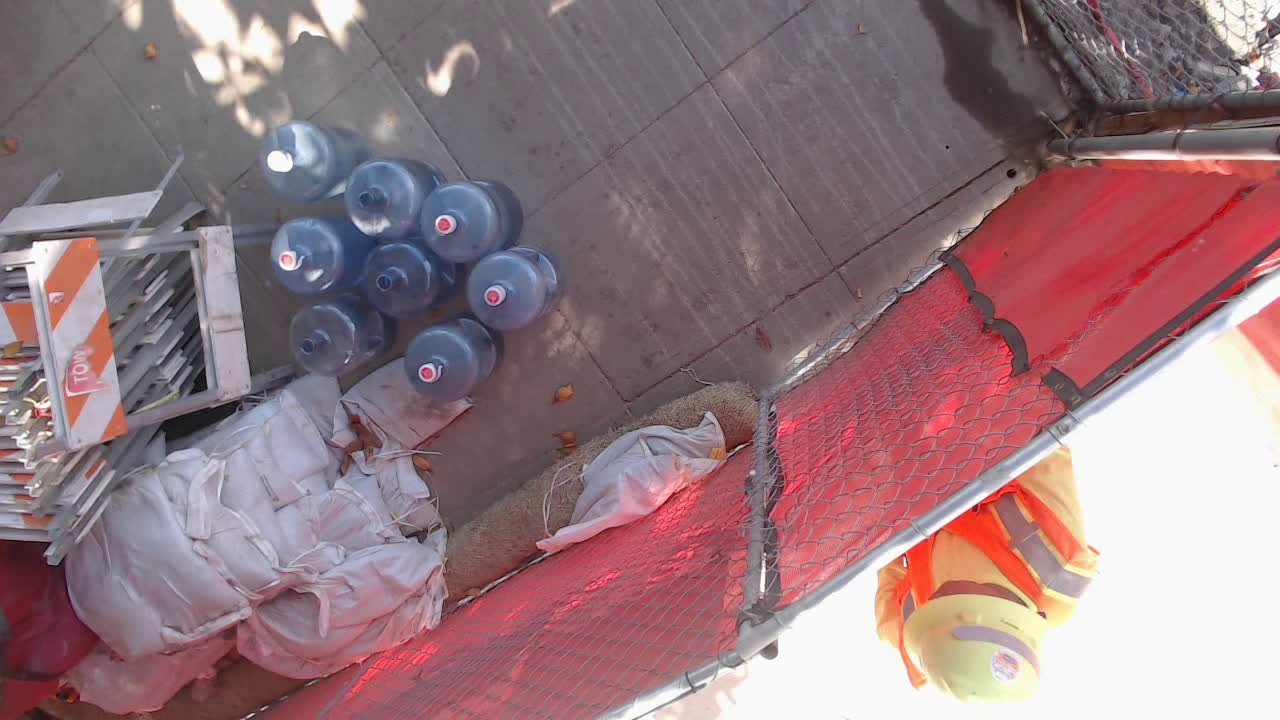hardhat: (902, 589, 1056, 708)
safetyvest: (873, 478, 1090, 696)
